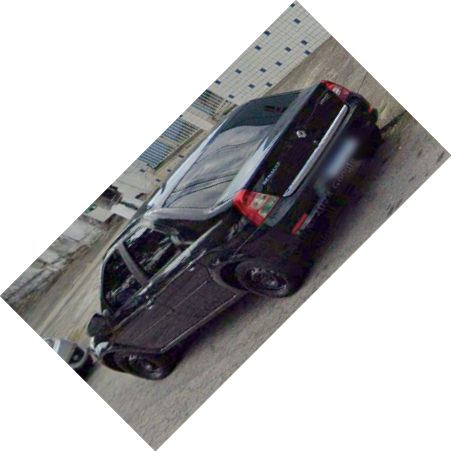car: (88, 80, 380, 381)
